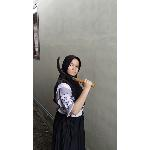Celurit: (56, 55, 98, 89)
